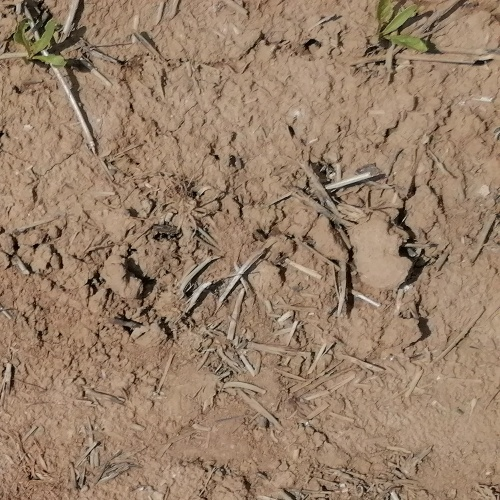beet: (376, 0, 429, 55), (17, 19, 67, 67)
